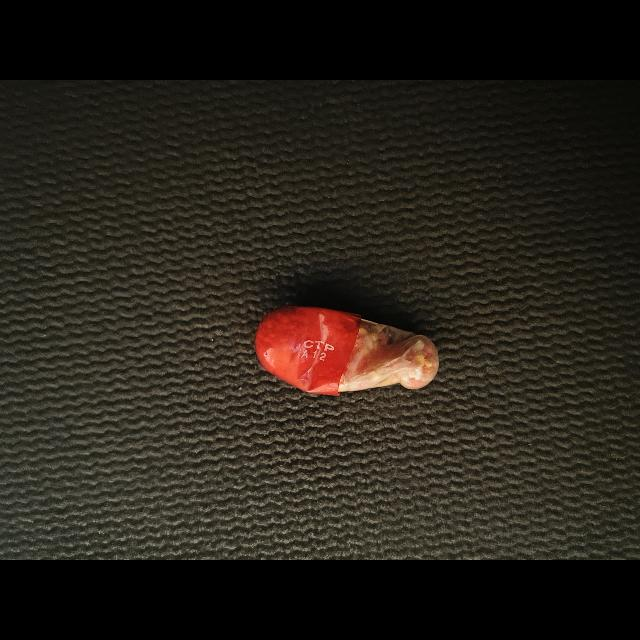Defective Capsule: (255, 306, 439, 396)
